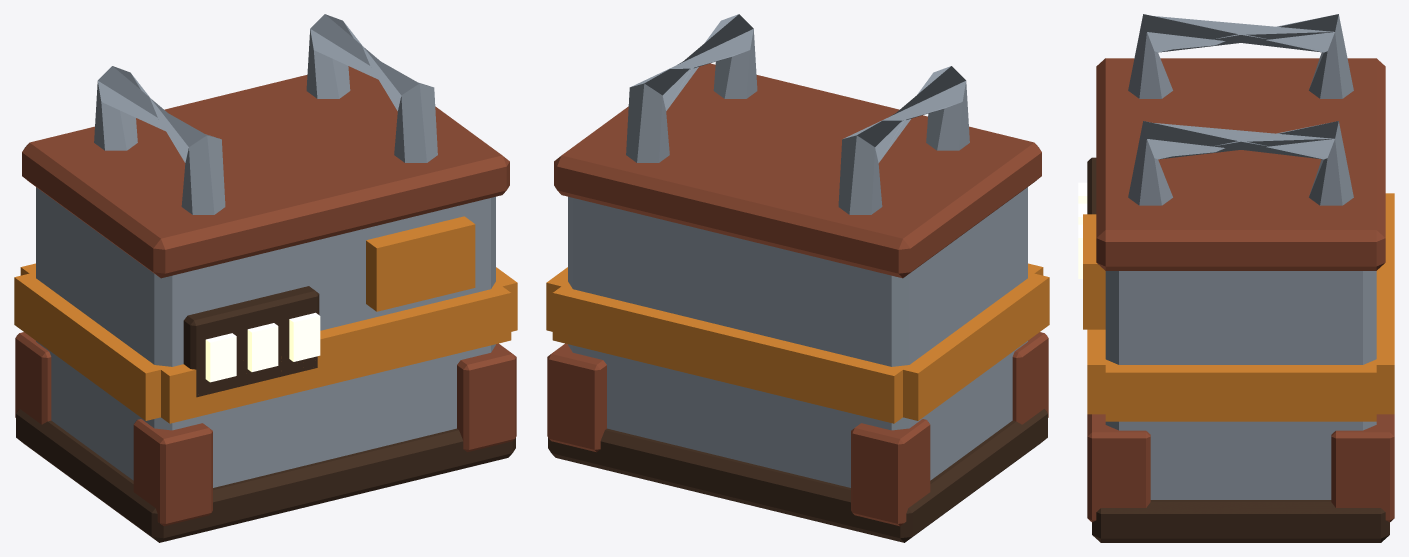
The model's file is Prop_Battery.fbx.
3 renders of one model, left to right at view 1: azimuth 30°, elevation 25°; view 2: azimuth 150°, elevation 25°; view 3: azimuth 270°, elevation 25°, orthographic. The views are drawn at different scales.
Parts seen in each view (by area): view 1: Prop_Battery; view 2: Prop_Battery; view 3: Prop_Battery.
Boxes of the visible parts, x1=… form: Prop_Battery: x1=14, y1=14, x2=517, y2=542; Prop_Battery: x1=546, y1=14, x2=1049, y2=542; Prop_Battery: x1=1078, y1=14, x2=1394, y2=542.
Size of the model in its own units: 98 by 94.72 by 70.
